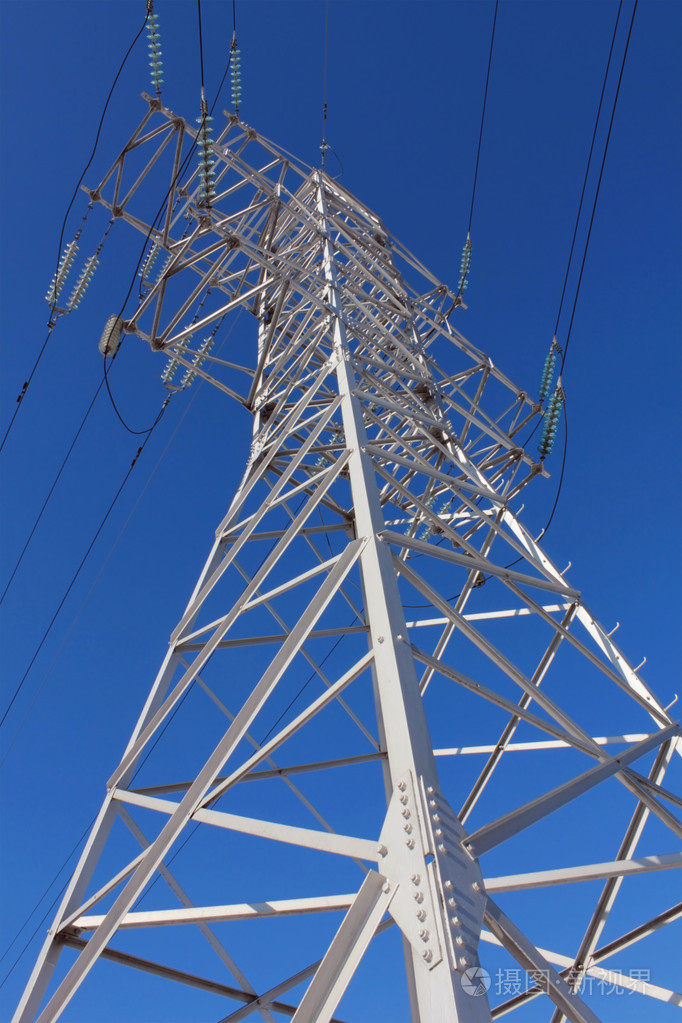insulator: (175, 332, 214, 392), (194, 114, 218, 206), (156, 328, 194, 386), (63, 255, 100, 314), (44, 246, 76, 309), (530, 346, 560, 411), (143, 13, 165, 93), (539, 394, 564, 463), (226, 44, 248, 110), (138, 232, 164, 284), (453, 238, 472, 296)
